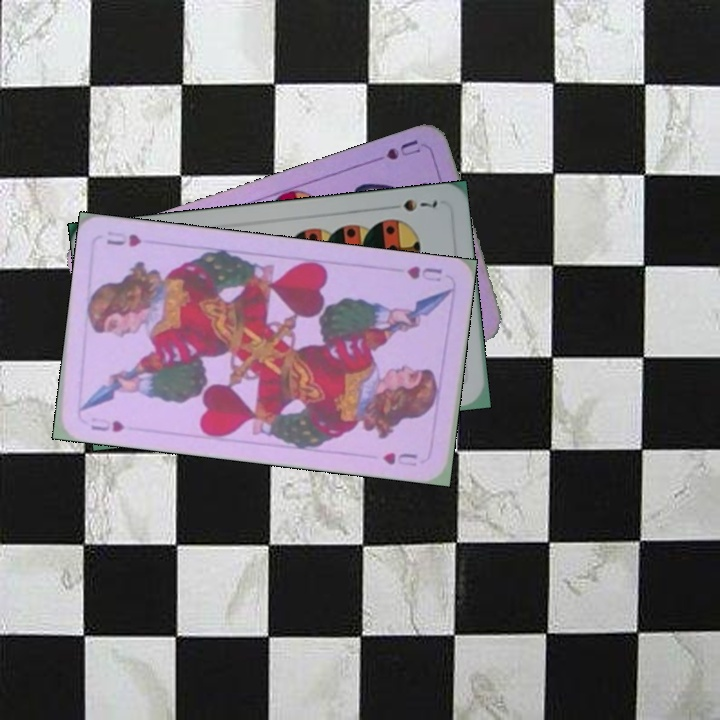HU: (403, 261, 445, 285), (86, 416, 127, 435)
S7: (383, 195, 440, 215)
SU: (365, 135, 424, 167)
